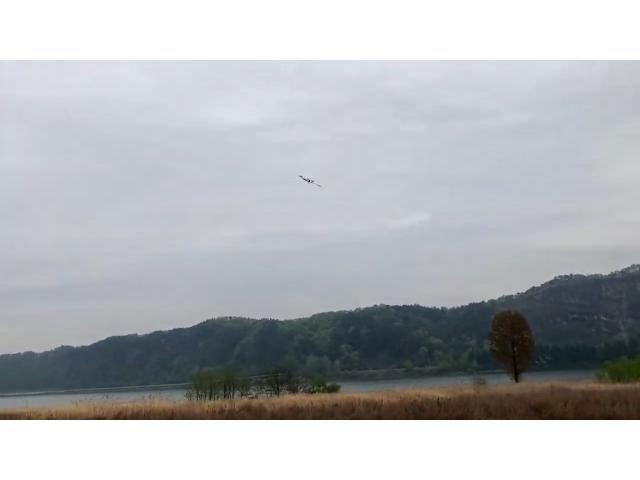Anti-Drone: (300, 175, 320, 187)
